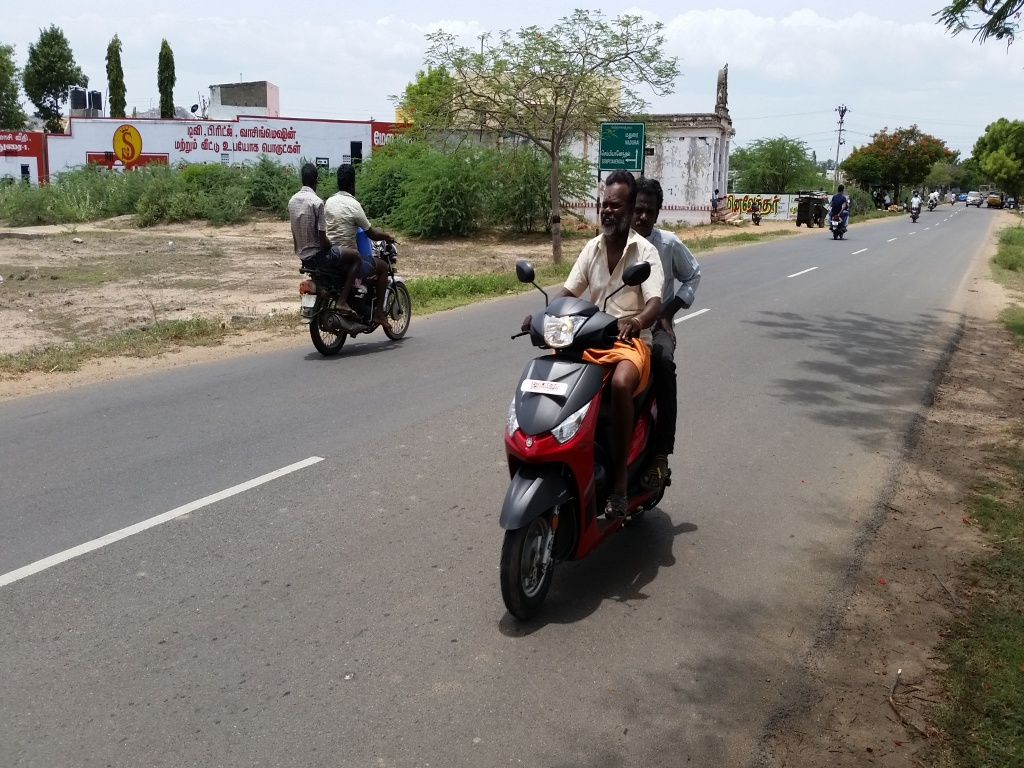biker: (436, 126, 748, 637), (270, 115, 436, 368)
nohelmet: (593, 164, 637, 248), (633, 168, 666, 242), (333, 156, 363, 204), (295, 152, 325, 200)
